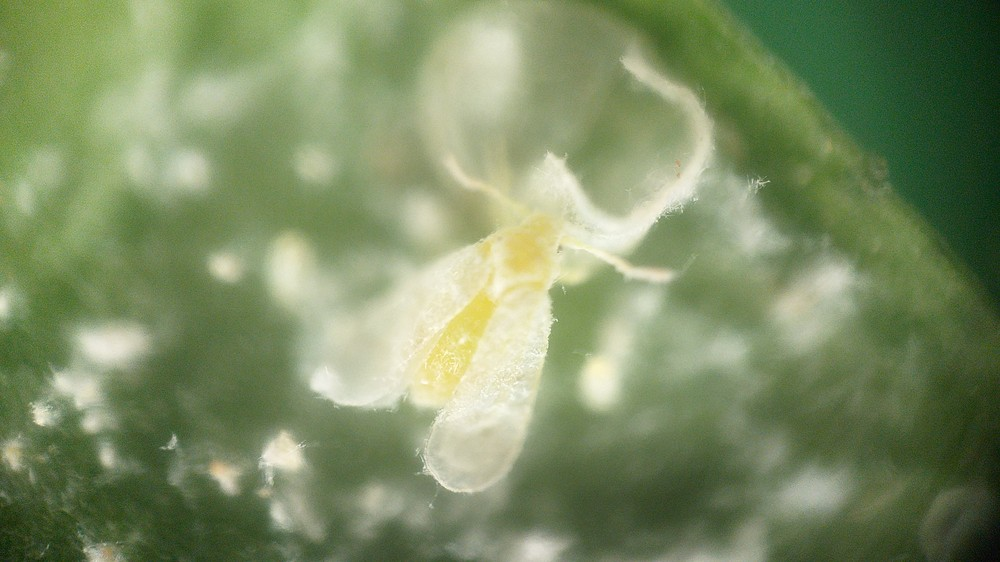Mosca Blanca: (289, 139, 697, 511)
